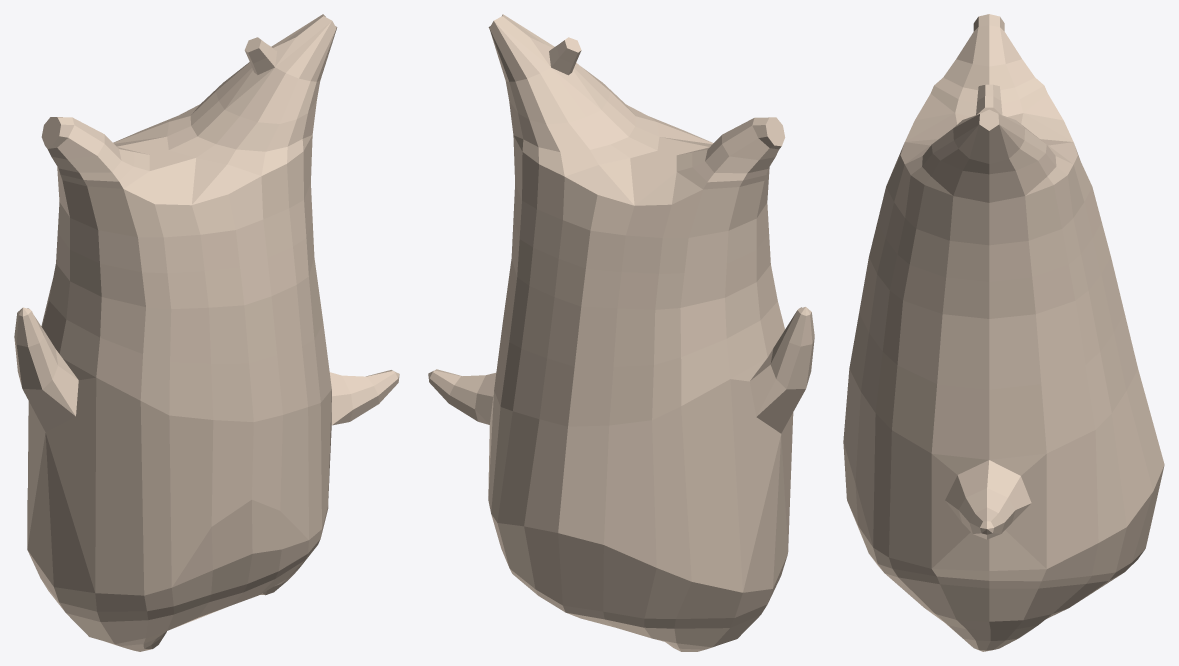
Rendered from frame_0071.obj.
3 views of the same model, side by side, from view 1: azimuth 30°, elevation 25°; view 2: azimuth 150°, elevation 25°; view 3: azimuth 270°, elevation 25° (orthographic).
Visible parts, largest first — view 1: korok; view 2: korok; view 3: korok.
Part boxes in pixels (x1,y1,x2,y2): korok: (14, 14, 399, 651); korok: (428, 14, 814, 651); korok: (843, 14, 1164, 651).
Size of the model in its own units: 1.5 by 2.19 by 1.07.
